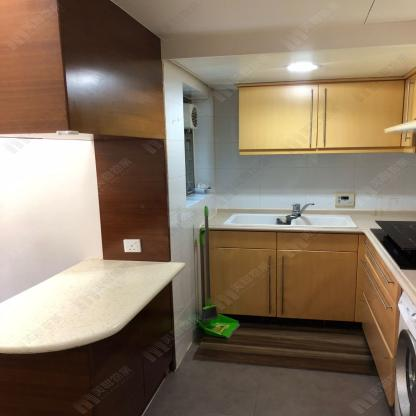Cupboard: (200, 229, 402, 407), (236, 67, 416, 154)
Exhaust Hood: (384, 119, 416, 134)
Faucet: (284, 200, 316, 215)
Sink: (224, 213, 357, 226)
Stove: (368, 219, 416, 269)
Washing Machine: (394, 290, 416, 416)
